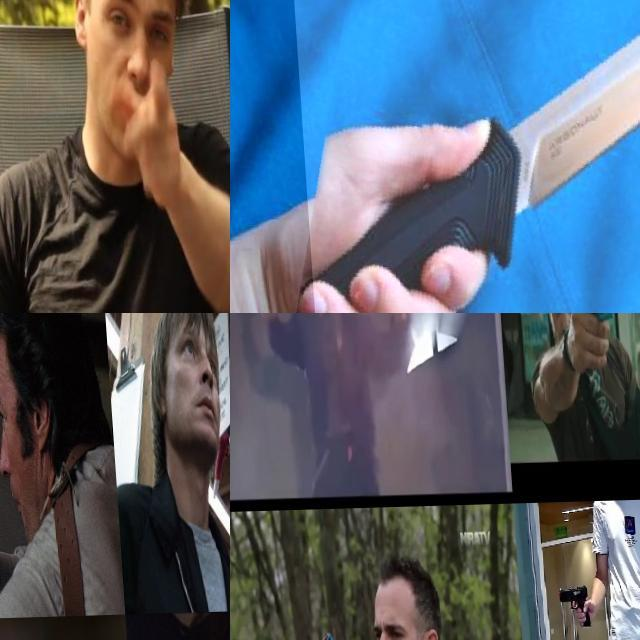-: (286, 0, 640, 313)
gun-knife-thesis - v11 Yolov5 augmented: (0, 424, 78, 623), (567, 313, 635, 380), (236, 313, 279, 356), (551, 585, 586, 629)
